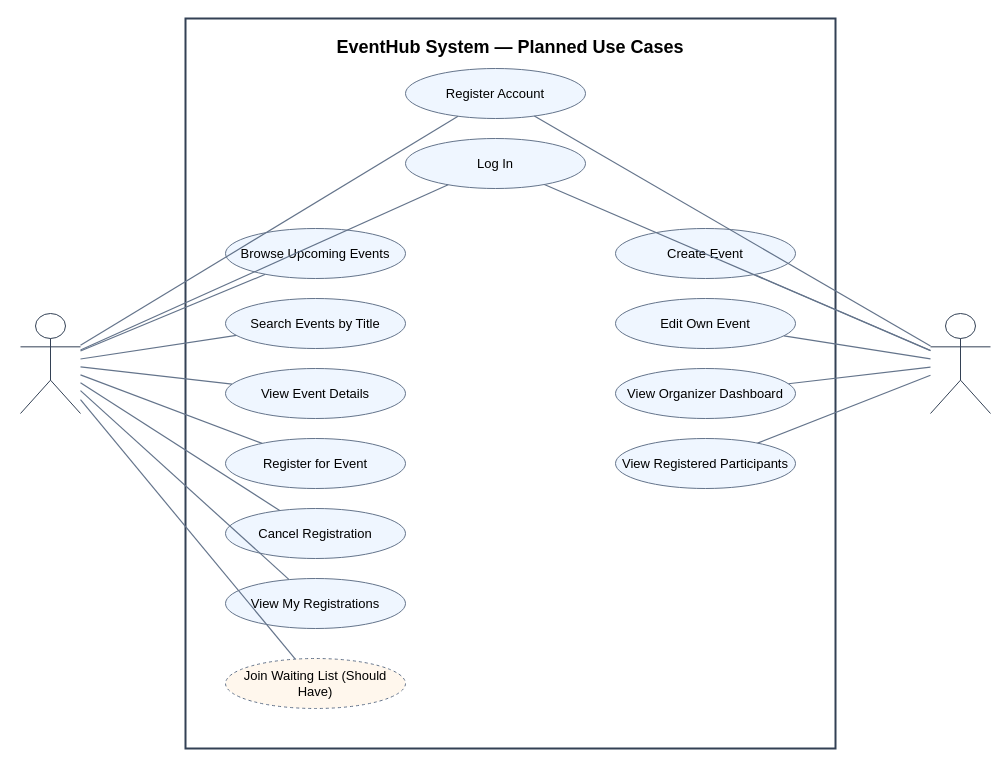
Image size: 1008x766. Some labels were removed from this diagram. Each missing label, with the box of its shape:
Organizer: (930, 312, 990, 414)
Participant: (20, 312, 80, 414)
